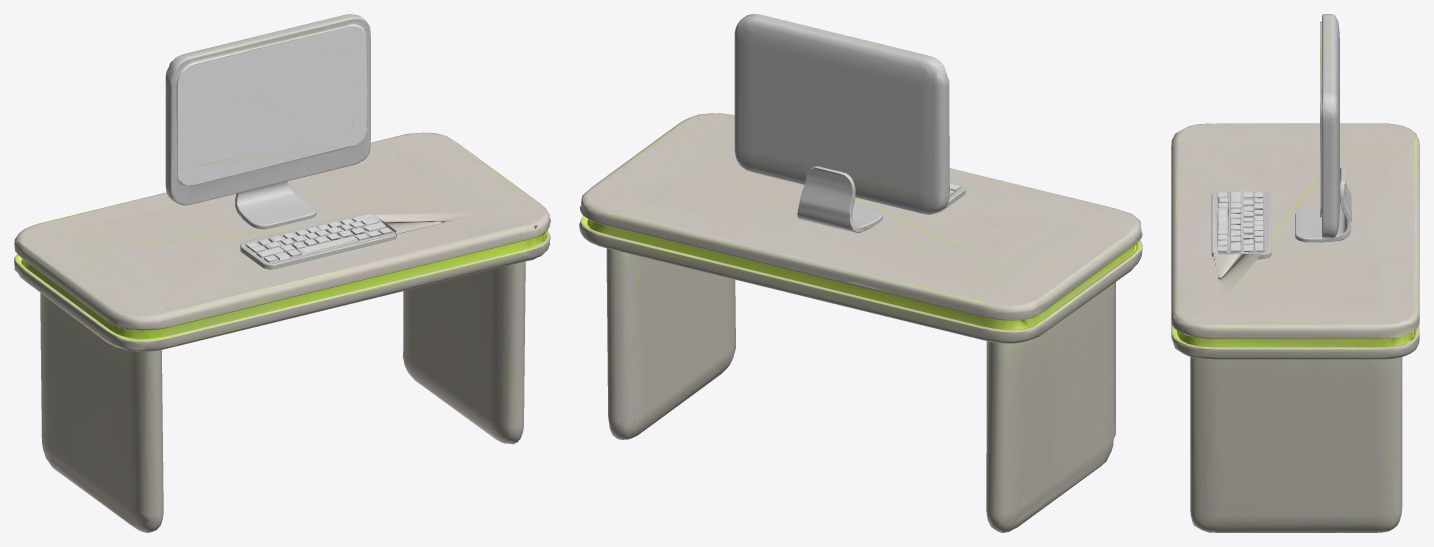
File: desk.glb
3 renders of one model, left to right at view 1: azimuth 30°, elevation 25°; view 2: azimuth 150°, elevation 25°; view 3: azimuth 270°, elevation 25°, orthographic. The views are drawn at different scales.
Bounding box in the file's own units: 0.9531 × 0.8477 × 0.4849.
1 material, 1 textured.
